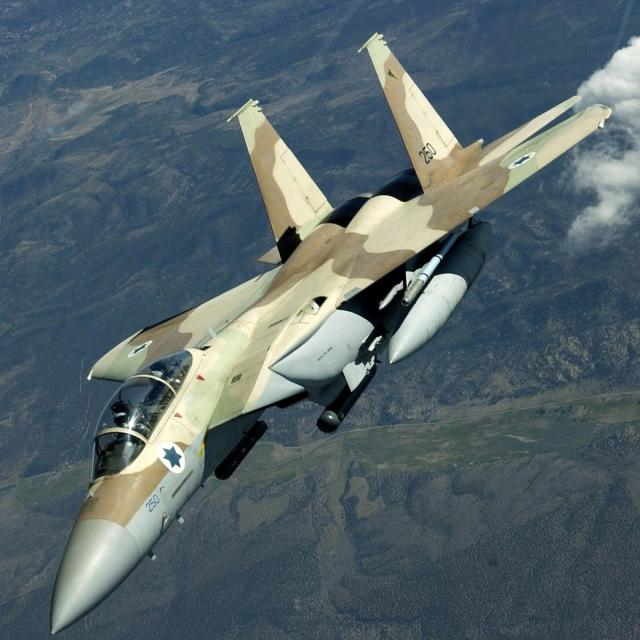F15: (1, 17, 640, 639)
